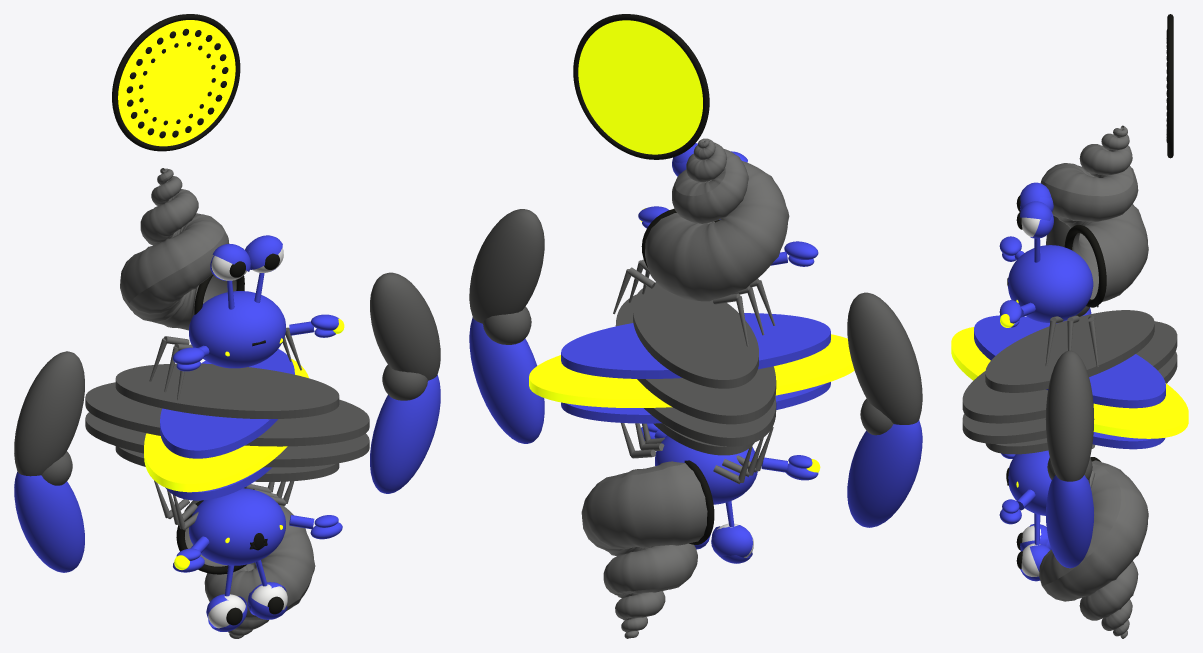
Rendered from doppia-chela.glb.
3 renders of one model, left to right at view 1: azimuth 30°, elevation 25°; view 2: azimuth 150°, elevation 25°; view 3: azimuth 270°, elevation 25°, orthographic. The views are drawn at different scales.
Visible parts, largest first — view 1: Doppia chela, object 53, object 46, object 47, object 55, object 44, object 50, object 3, object 51, object 48, object 1, object 43 (+8 smaller); view 2: object 53, Doppia chela, object 1, object 46, object 45, object 47, object 43, object 50, object 48, object 51, object 44, object 42 (+7 smaller); view 3: object 53, object 1, object 46, object 50, object 55, object 45, object 43, object 44, object 51, object 42, object 3, Doppia chela (+9 smaller).
Part boxes in pixels (x1=…): Doppia chela: x1=112, y1=14, x2=240, y2=151; object 53: x1=120, y1=168, x2=236, y2=330; object 46: x1=115, y1=363, x2=339, y2=419; object 47: x1=14, y1=351, x2=84, y2=476; object 55: x1=189, y1=291, x2=285, y2=368; object 44: x1=85, y1=382, x2=369, y2=446; object 50: x1=370, y1=272, x2=440, y2=380; object 3: x1=189, y1=488, x2=285, y2=565; object 51: x1=370, y1=375, x2=440, y2=493; object 48: x1=14, y1=471, x2=84, y2=572; object 1: x1=184, y1=500, x2=315, y2=638; object 43: x1=144, y1=359, x2=308, y2=492; object 53: x1=645, y1=138, x2=789, y2=301; Doppia chela: x1=573, y1=14, x2=709, y2=159; object 1: x1=581, y1=461, x2=707, y2=638; object 46: x1=633, y1=282, x2=758, y2=388; object 45: x1=561, y1=313, x2=830, y2=378; object 47: x1=847, y1=292, x2=922, y2=424; object 43: x1=529, y1=334, x2=854, y2=407; object 50: x1=469, y1=209, x2=544, y2=323; object 48: x1=847, y1=420, x2=922, y2=527; object 51: x1=469, y1=317, x2=544, y2=443; object 44: x1=615, y1=294, x2=776, y2=424; object 42: x1=644, y1=396, x2=776, y2=446; object 53: x1=1040, y1=125, x2=1148, y2=301; object 1: x1=1039, y1=460, x2=1148, y2=638; object 46: x1=985, y1=310, x2=1154, y2=392; object 50: x1=1045, y1=350, x2=1094, y2=481; object 55: x1=1007, y1=245, x2=1093, y2=322; object 45: x1=974, y1=315, x2=1165, y2=408; object 43: x1=951, y1=327, x2=1188, y2=438; object 44: x1=962, y1=321, x2=1177, y2=423; object 51: x1=1046, y1=475, x2=1093, y2=568; object 42: x1=962, y1=351, x2=1177, y2=443; object 3: x1=1008, y1=450, x2=1051, y2=515; Doppia chela: x1=1166, y1=14, x2=1173, y2=158.
Size of the model in its own units: 2.74 by 3.79 by 1.36.
